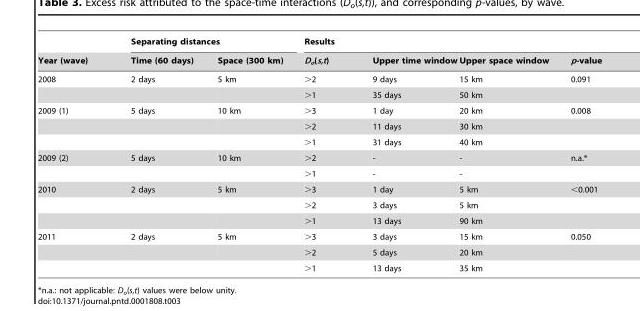table: (37, 36, 601, 272)
table column: (349, 36, 457, 272), (457, 36, 558, 272), (108, 36, 204, 272), (204, 36, 292, 272), (37, 36, 108, 272), (292, 36, 349, 272), (558, 36, 601, 272)
table column header: (37, 36, 601, 69)
table row: (37, 50, 601, 69), (37, 69, 601, 86), (37, 86, 601, 102), (37, 102, 601, 118), (37, 118, 601, 134), (37, 149, 601, 165), (37, 165, 601, 181), (37, 181, 601, 197), (37, 212, 601, 228), (37, 228, 601, 244), (37, 244, 601, 260), (37, 134, 601, 149), (37, 197, 601, 212), (37, 36, 601, 50), (37, 260, 601, 272)
table spanning cell: (292, 36, 601, 50), (37, 102, 108, 149), (37, 181, 108, 228), (37, 228, 108, 272), (108, 36, 292, 50), (37, 36, 108, 69), (37, 69, 108, 102), (37, 149, 108, 181)
